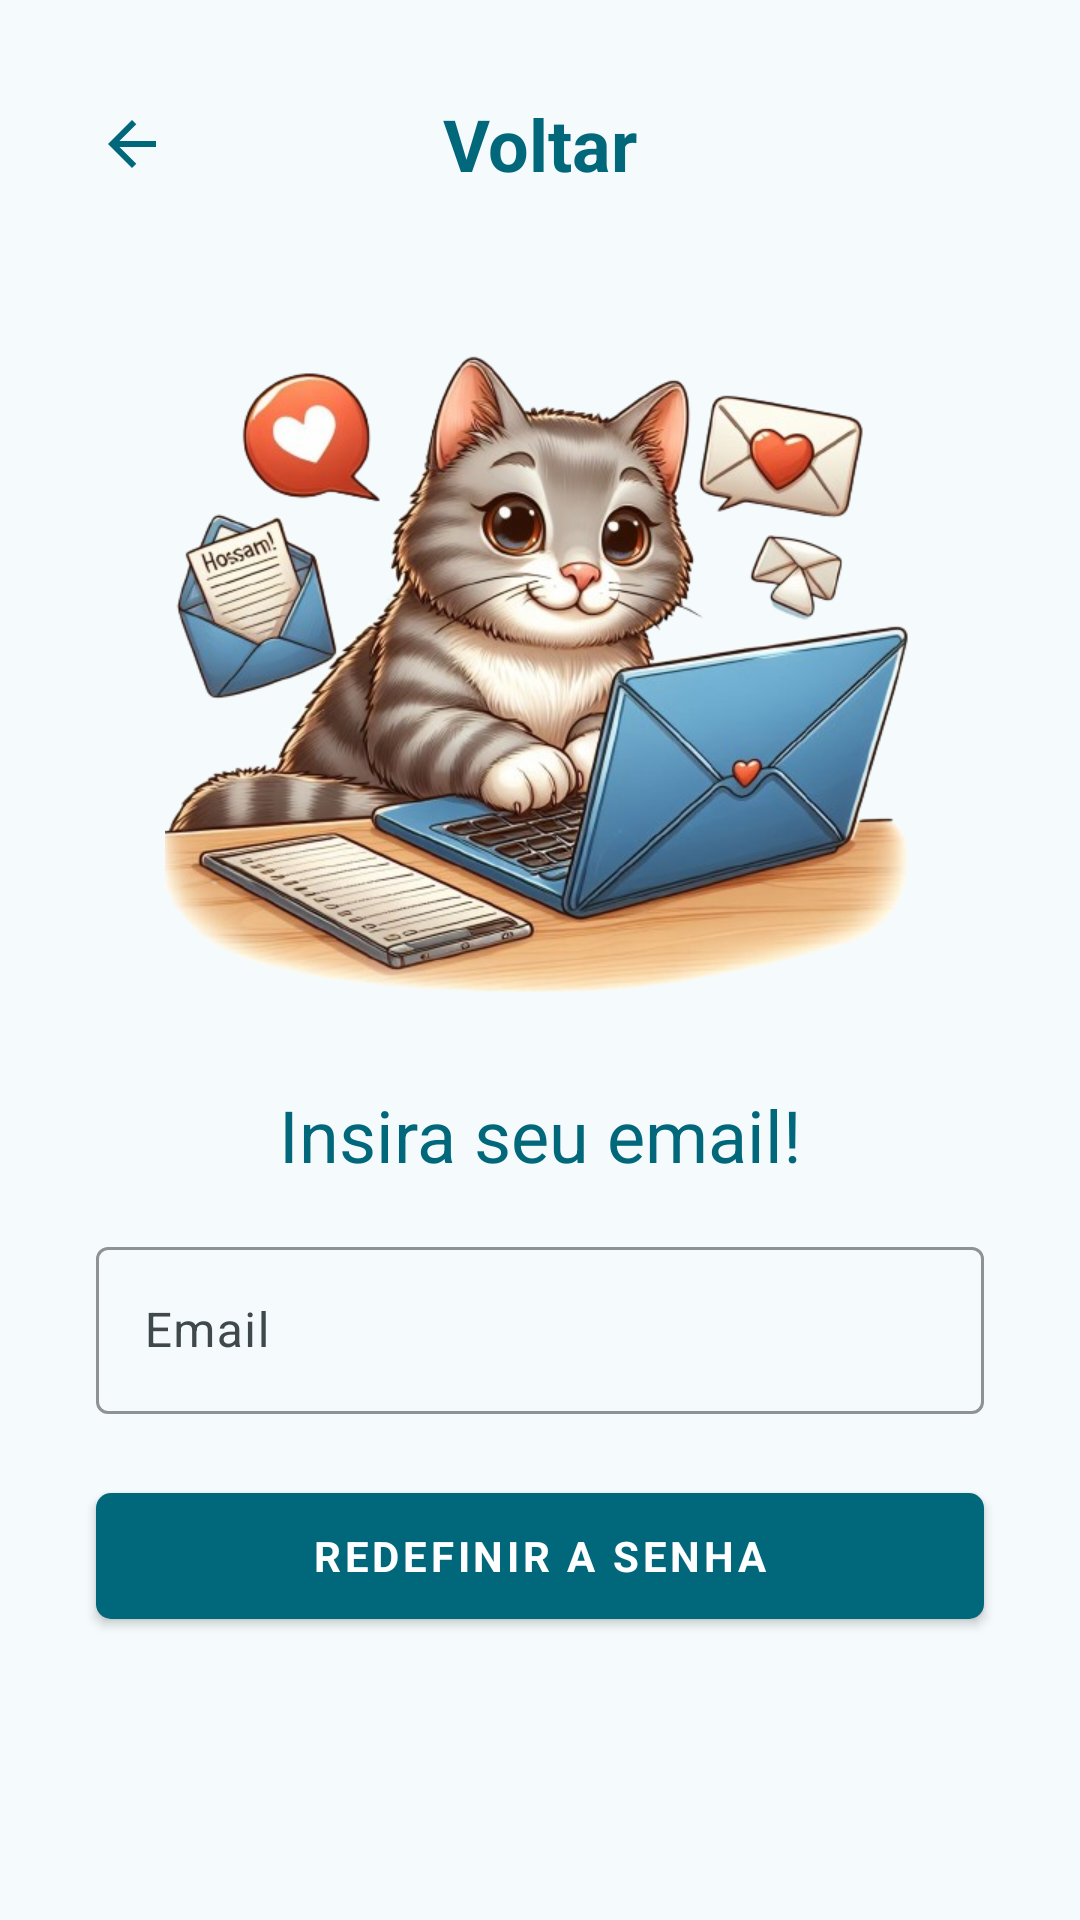

Icons on this 1080px×1920px Android screen, each with its box as (x1, y1, x2, y2):
arrow back: (108, 120, 156, 168)
